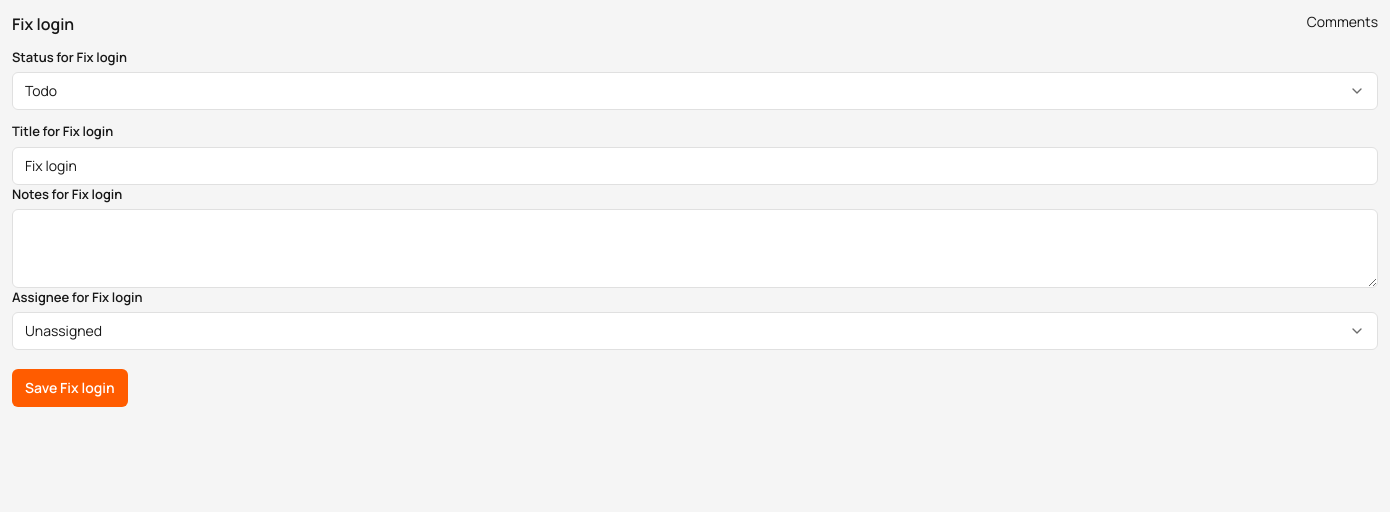
Scenario: TaskList › renders a version conflict on update
Click the button named "Status for Fix login" at (41, 91), box left=12, top=72, right=1378, bottom=110
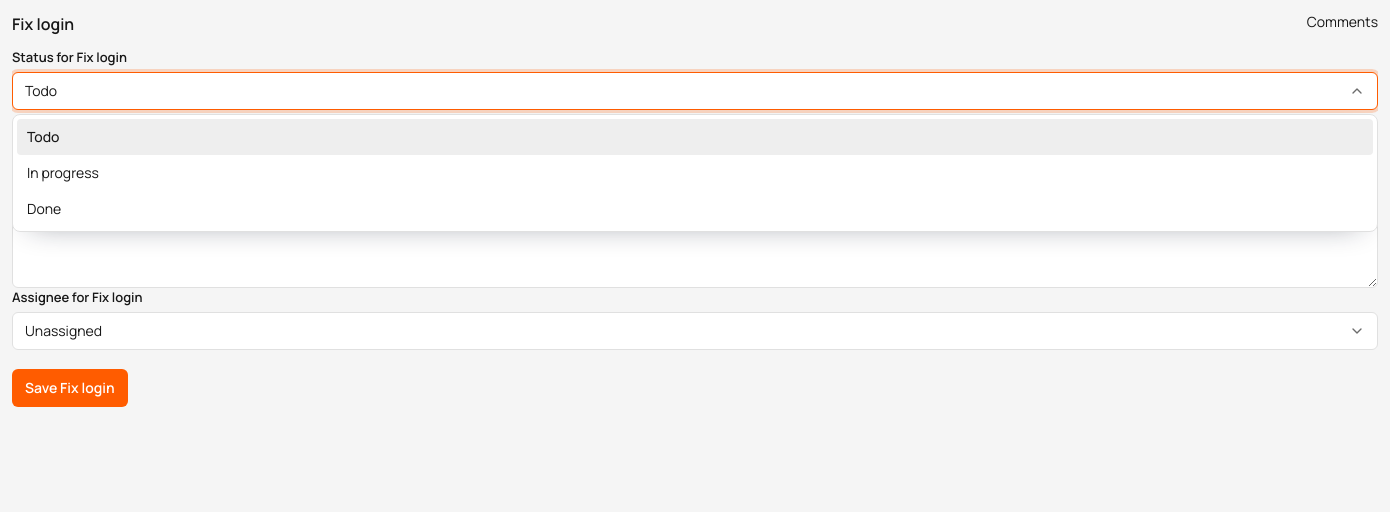
Click the option "Done" at (44, 209), box left=17, top=191, right=1373, bottom=227
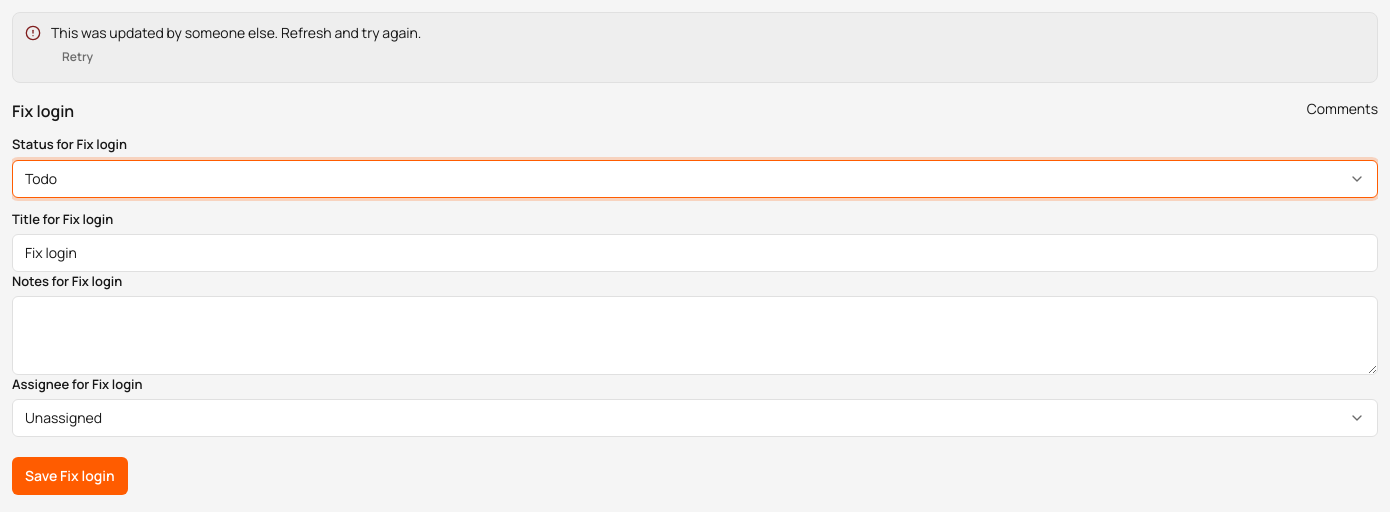
Result: the message shows "This was updated by someone else. Refresh and try again." at left=51, top=23, right=421, bottom=42
